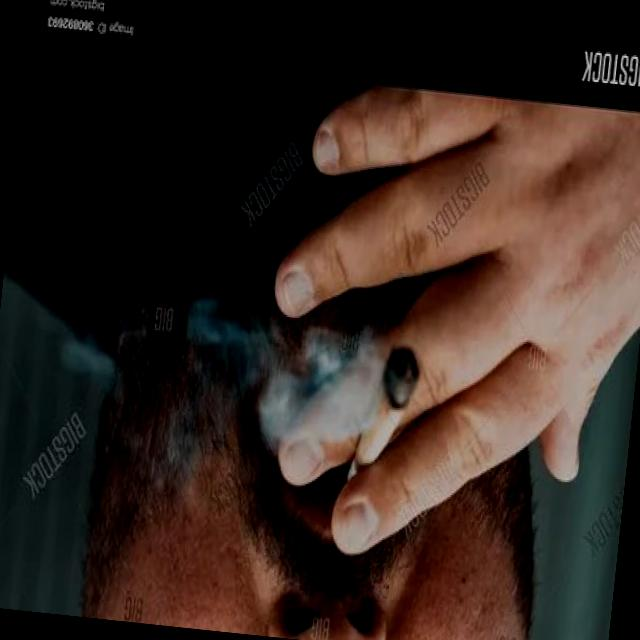cigarette: (336, 338, 424, 507)
